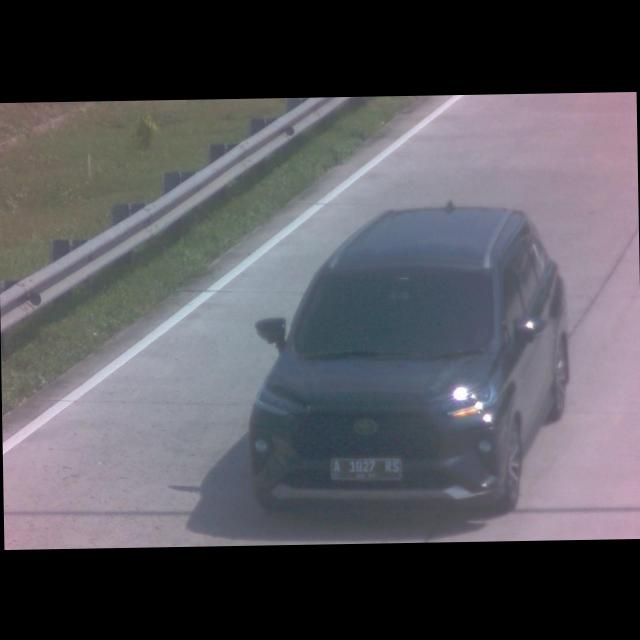plate: (328, 454, 401, 484)
